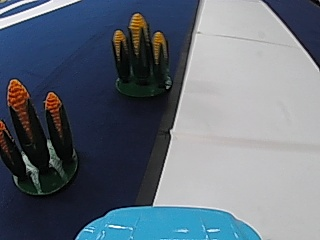corn: (2, 78, 80, 196), (109, 8, 172, 98)
